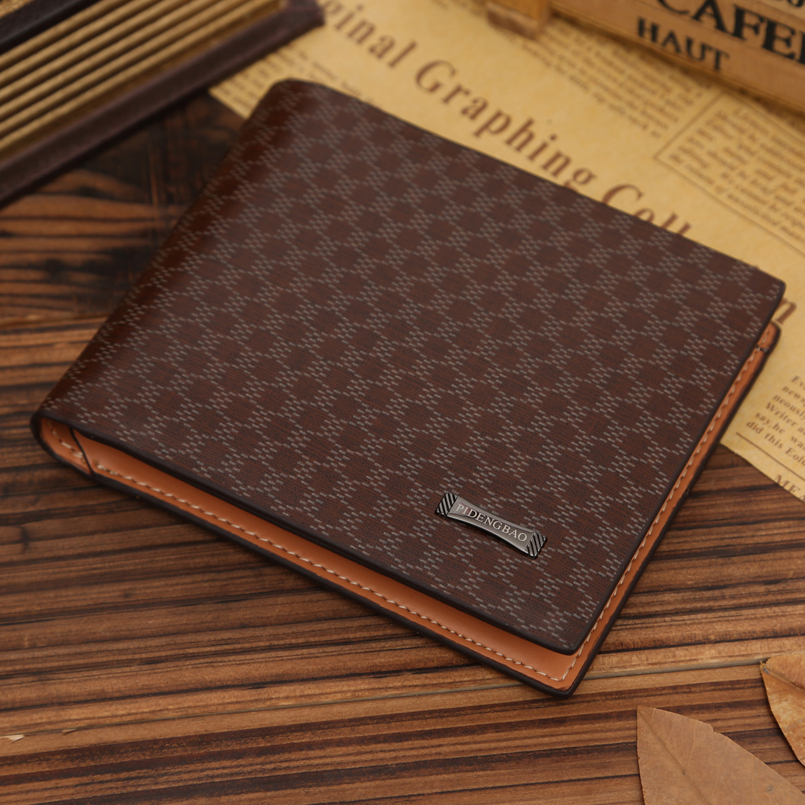monedero: (28, 73, 792, 703)
